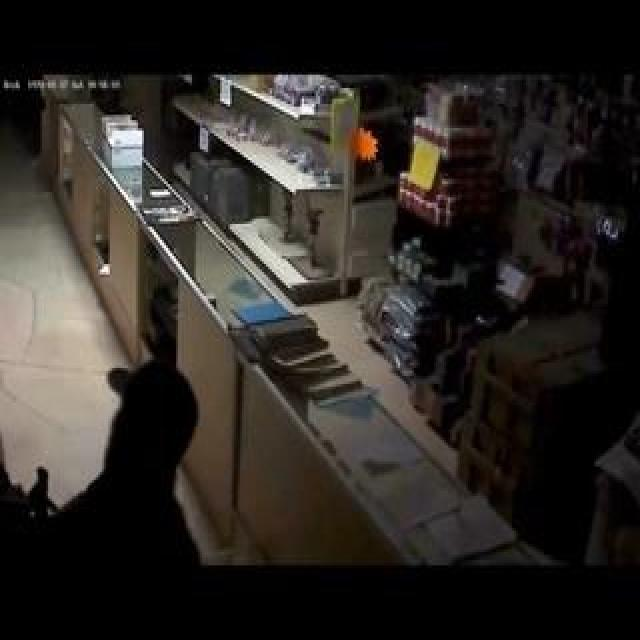thief: (115, 344, 220, 475)
